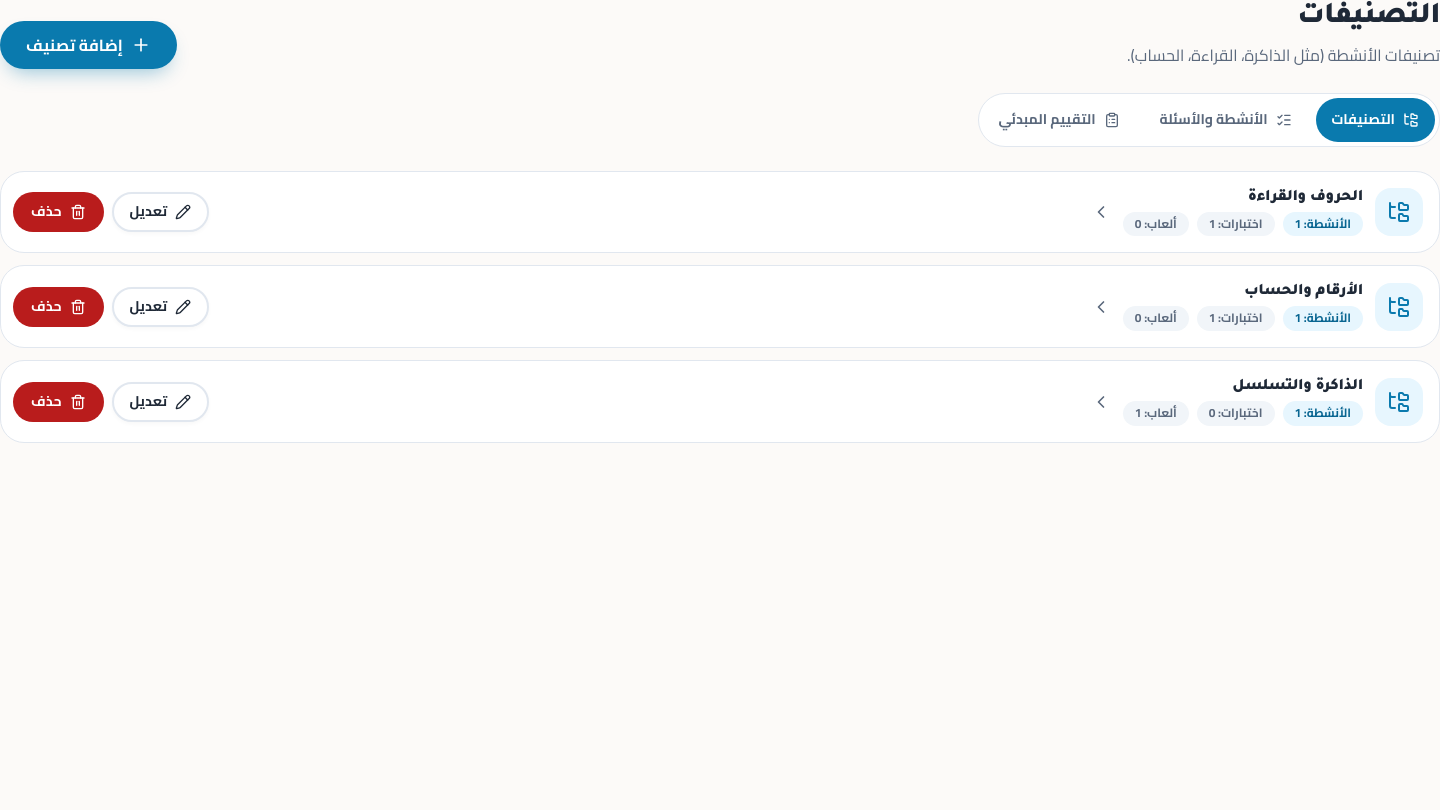
Scenario: CategoriesPage › shows the server error when the name already exists
The image size is (1440, 810).
Click the button "إضافة تصنيف".
click(88, 45)  # box [0,21,177,69]
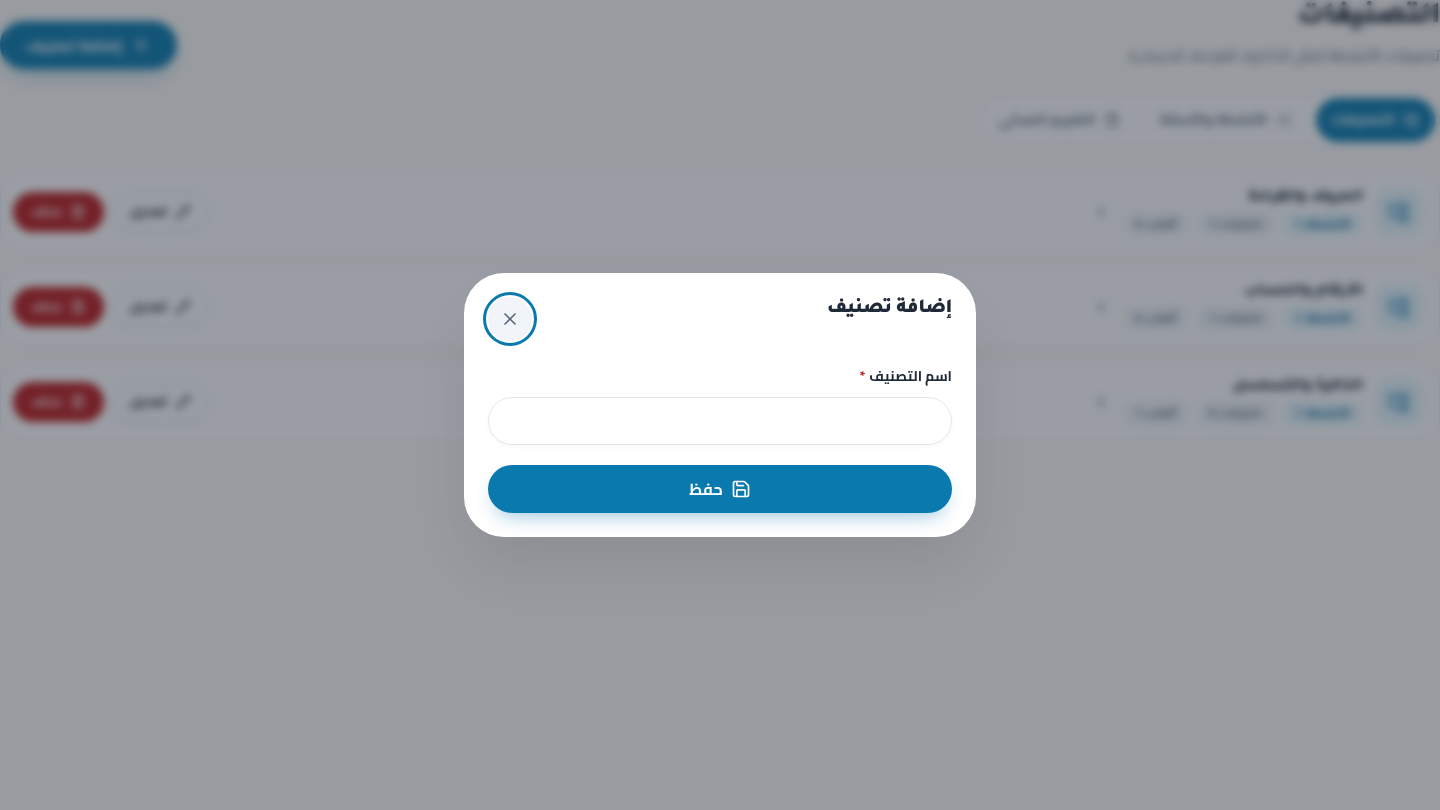
Type "الحروف والقراءة" into the field labelled "اسم التصنيف*".
click(720, 421); type("الحروف والقراءة")  # box [488,397,952,445]
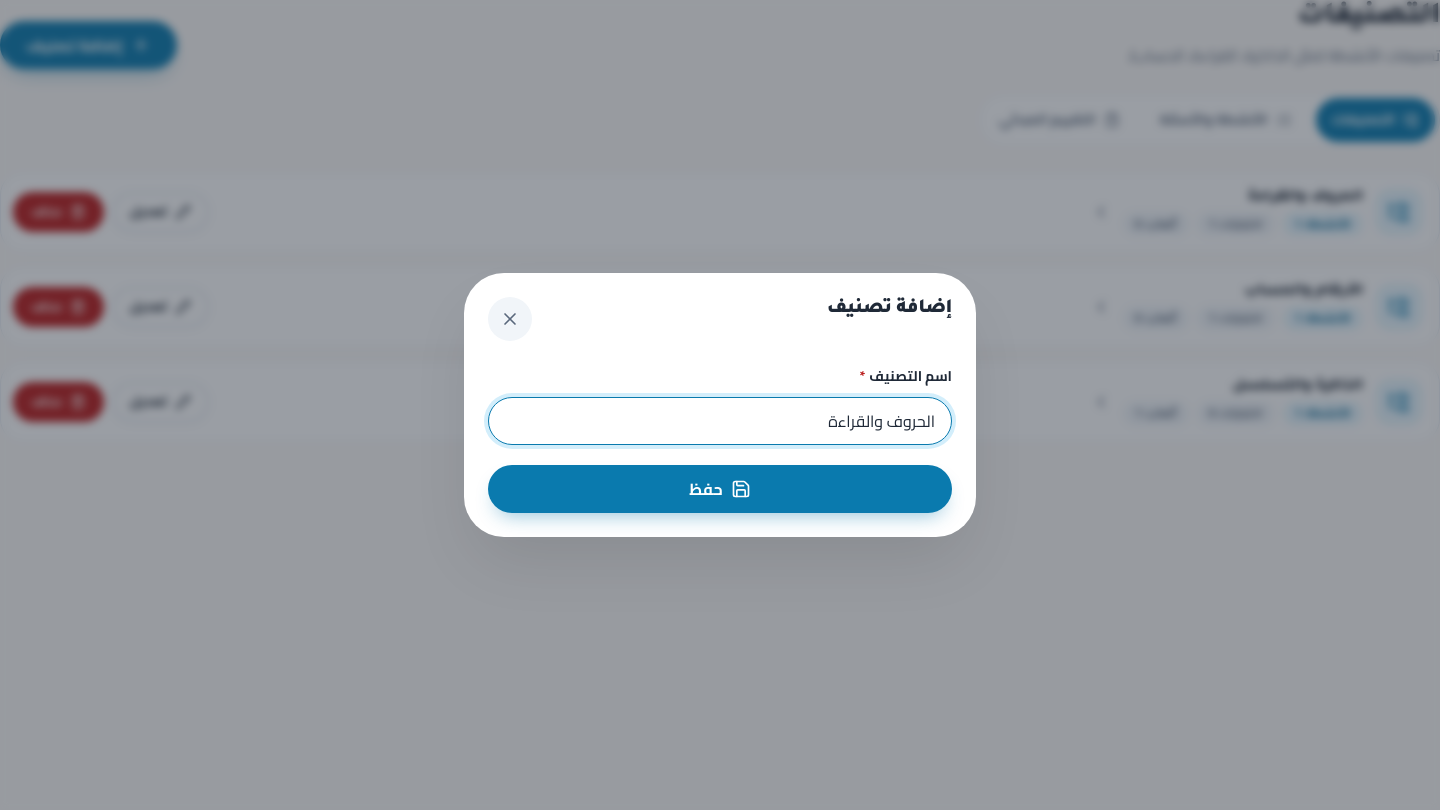
Click the button "حفظ".
click(720, 489)  # box [488,465,952,513]
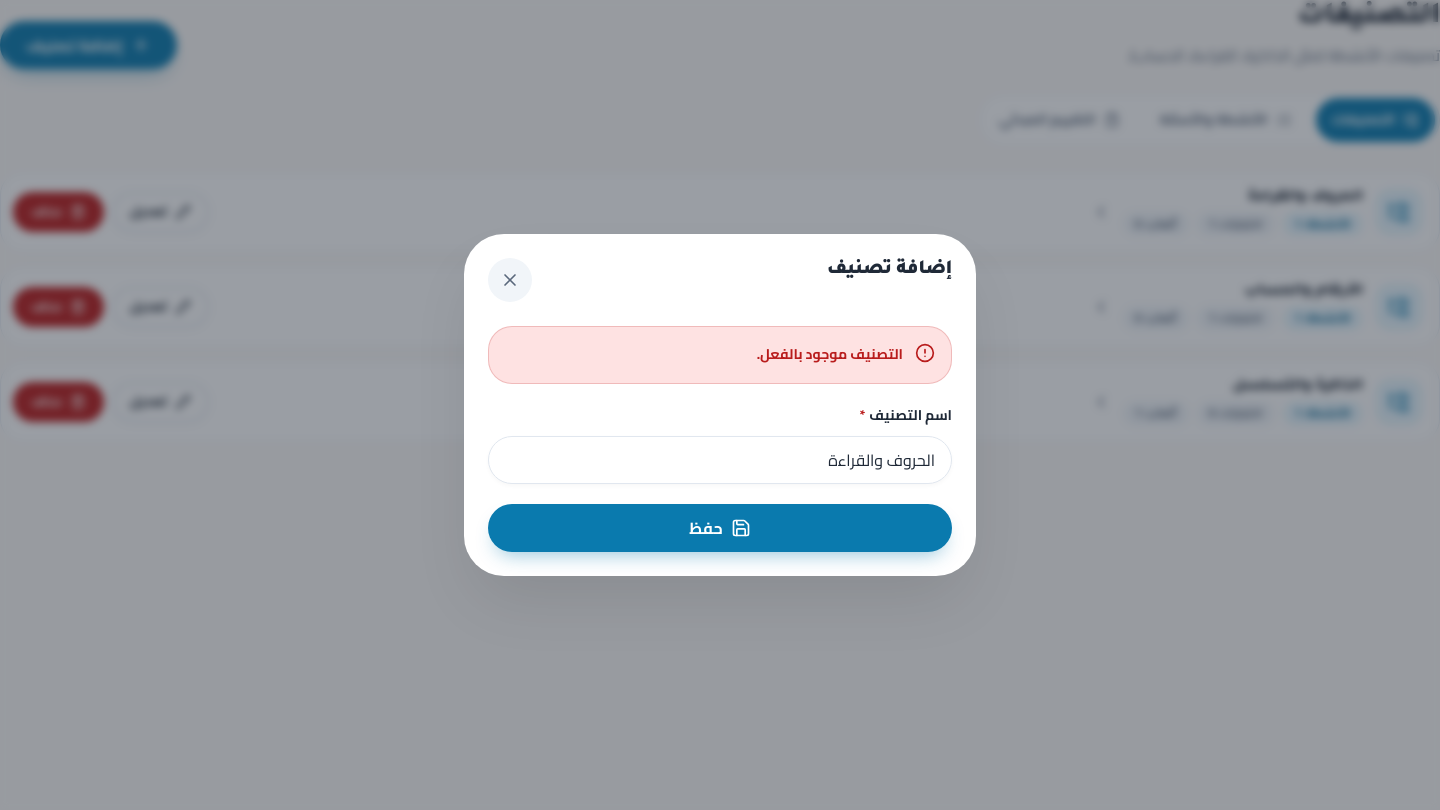
expect the text "التصنيف موجود بالفعل." is shown: met, box [757,343,903,367]
